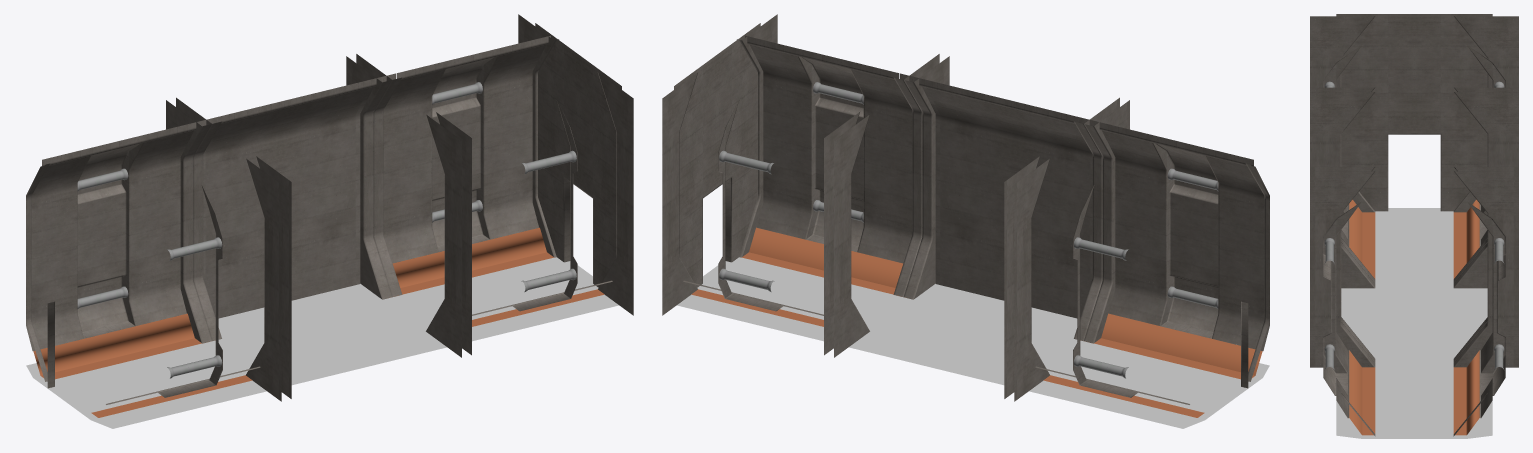
File: HC_room2_alt.gltf
3 renders of one model, left to right at view 1: azimuth 30°, elevation 25°; view 2: azimuth 150°, elevation 25°; view 3: azimuth 270°, elevation 25°, orthographic. The views are drawn at different scales.
Parts seen in each view (by area): view 1: Tesla (1); view 2: Tesla (1); view 3: Tesla (1).
Boxes of the visible parts, <box> form: Tesla (1): <box>26,14,633,428</box>; Tesla (1): <box>662,14,1269,428</box>; Tesla (1): <box>1310,14,1518,438</box>.
Bounding box in the file's own units: 20.94 × 8.35 × 8.
